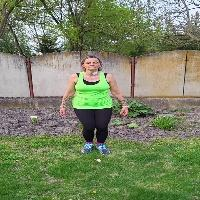jumping_jacks: (47, 56, 142, 162)
